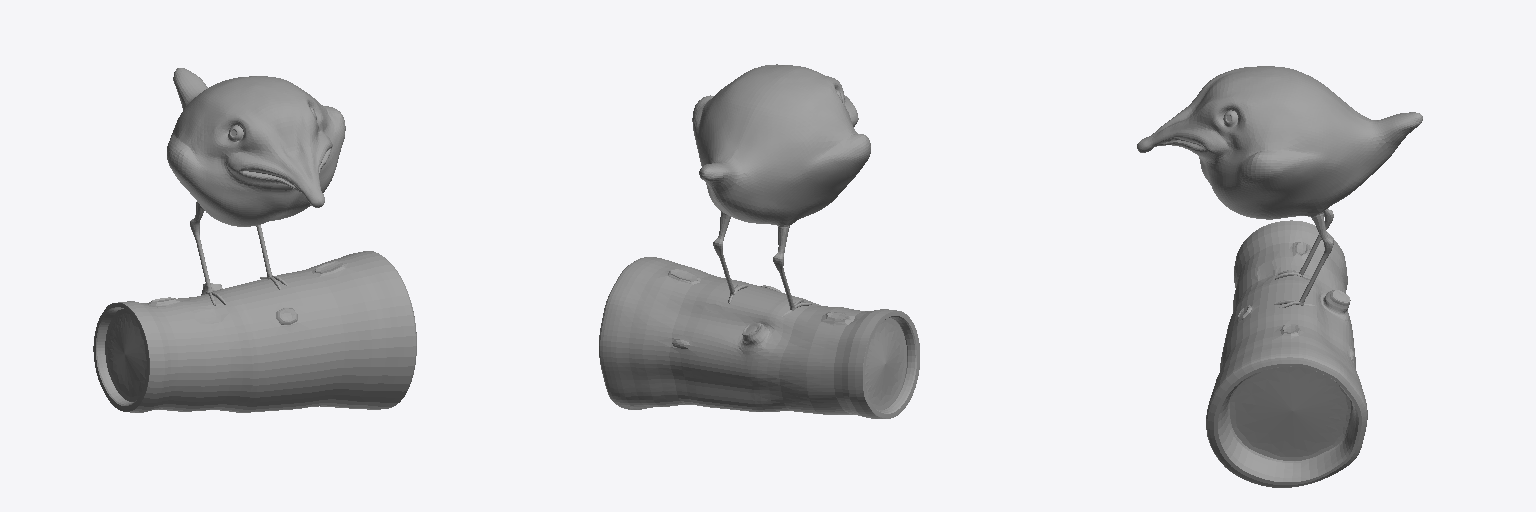
Rendered from bird.obj.
3 renders of one model, left to right at view 1: azimuth 30°, elevation 25°; view 2: azimuth 150°, elevation 25°; view 3: azimuth 270°, elevation 25°, orthographic.
Visible parts, largest first — view 1: Wood_wood_mesh, Bird_Bir_Mesh; view 2: Wood_wood_mesh, Bird_Bir_Mesh; view 3: Wood_wood_mesh, Bird_Bir_Mesh.
Part boxes in pixels (bbox=[...]): Wood_wood_mesh: bbox=[93, 251, 416, 412]; Bird_Bir_Mesh: bbox=[167, 68, 345, 305]; Wood_wood_mesh: bbox=[599, 257, 919, 418]; Bird_Bir_Mesh: bbox=[692, 64, 870, 316]; Wood_wood_mesh: bbox=[1206, 220, 1367, 487]; Bird_Bir_Mesh: bbox=[1137, 66, 1422, 308].
Size of the model in its own units: 0.7802 by 0.9718 by 0.7173.